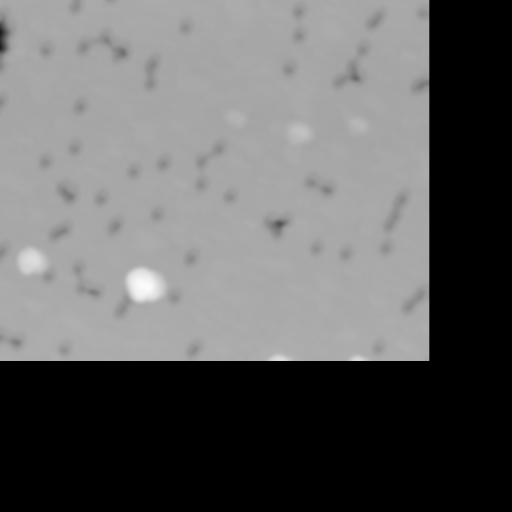Hole: (188, 134, 243, 204), (70, 24, 133, 64), (378, 183, 409, 256), (329, 45, 377, 92), (70, 253, 104, 298), (299, 164, 337, 200), (0, 1, 18, 76), (257, 206, 295, 238), (401, 279, 428, 317), (0, 327, 34, 357), (142, 48, 162, 91), (361, 3, 390, 32), (53, 177, 80, 204), (406, 69, 428, 100), (182, 332, 205, 359), (152, 145, 174, 173), (180, 246, 206, 269), (69, 91, 91, 117), (53, 337, 81, 357), (279, 55, 303, 78), (336, 239, 356, 264), (105, 212, 125, 237), (306, 232, 326, 256), (177, 11, 197, 35), (50, 218, 70, 241), (288, 0, 312, 19), (119, 158, 141, 178), (149, 204, 169, 225), (108, 297, 129, 317), (291, 22, 310, 44), (93, 185, 112, 207), (35, 149, 55, 169), (0, 85, 11, 121), (69, 136, 86, 156), (170, 286, 187, 306), (414, 0, 428, 23), (70, 0, 89, 16), (37, 38, 52, 57), (0, 239, 11, 262), (371, 337, 384, 352), (104, 0, 123, 3)
Particle: (124, 263, 166, 301), (278, 111, 321, 148), (13, 241, 49, 274), (341, 106, 374, 140), (222, 103, 252, 130), (264, 350, 294, 359), (342, 351, 371, 359)
